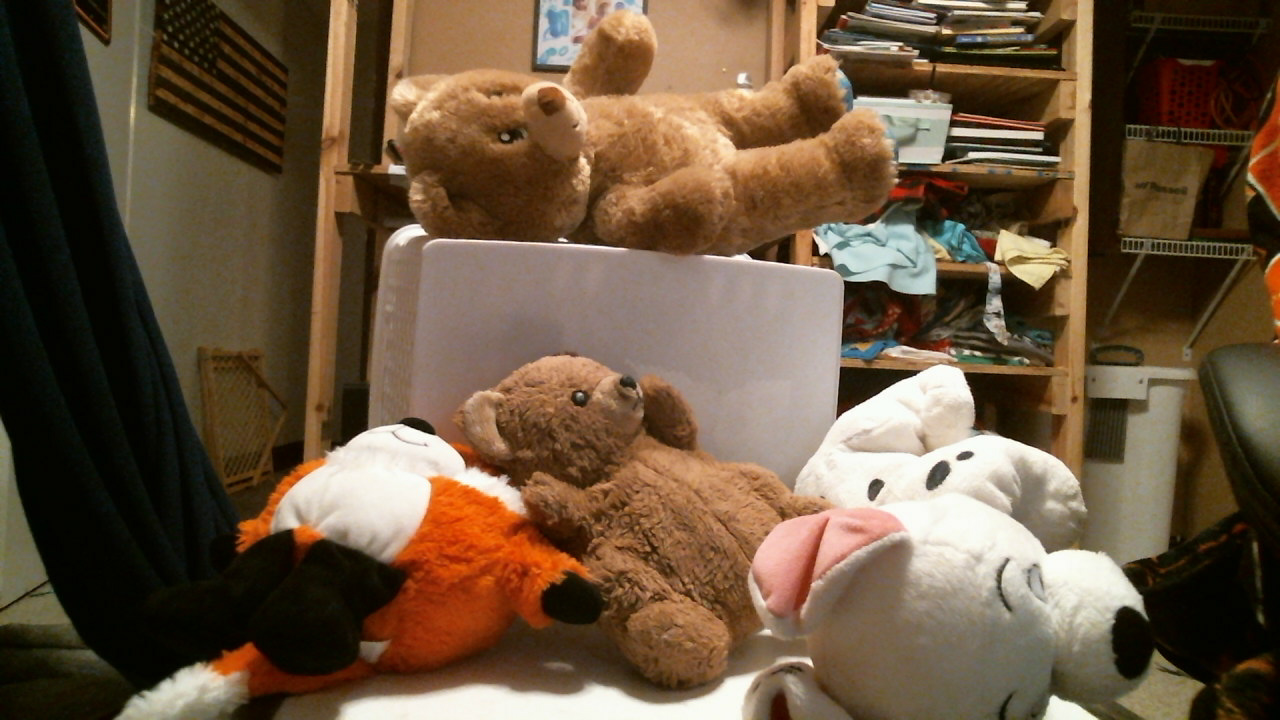Little_Mister_Bear: (554, 380, 650, 451)
